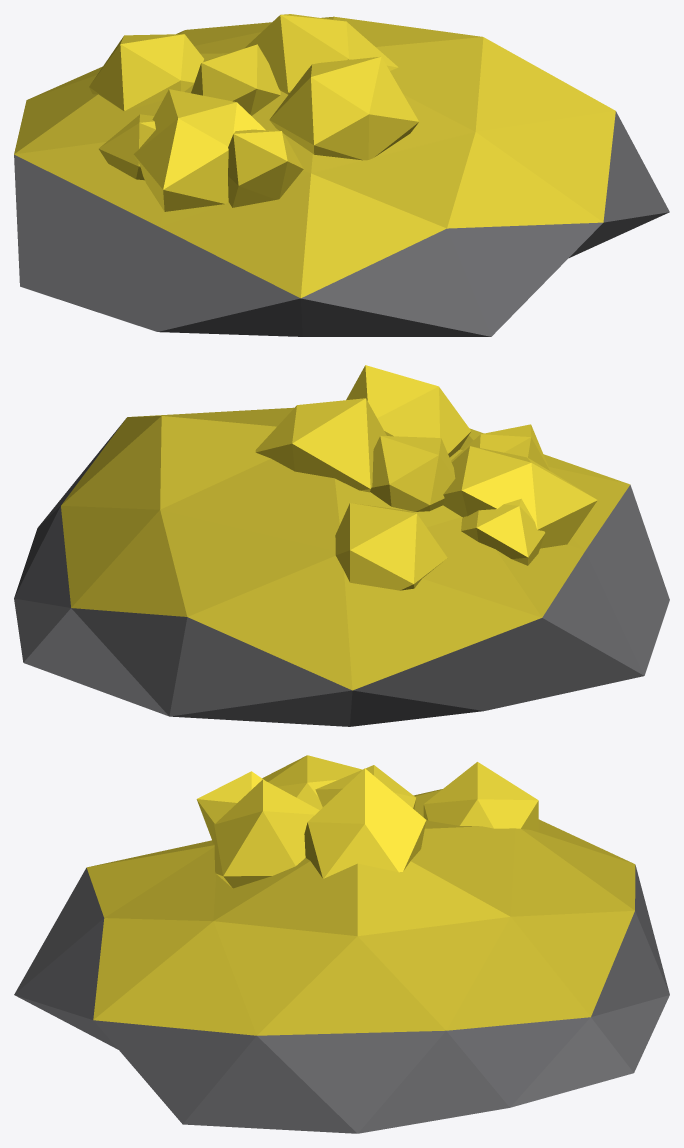
Rendered from sulfur_a.glb.
3 views of the same model, one above another, from view 1: azimuth 30°, elevation 25°; view 2: azimuth 150°, elevation 25°; view 3: azimuth 270°, elevation 25° (orthographic). The views are drawn at different scales.
Visible parts, largest first — view 1: sulfur_a; view 2: sulfur_a; view 3: sulfur_a.
Boxes of the visible parts, bbox=[...] form: sulfur_a: bbox=[14, 14, 669, 336]; sulfur_a: bbox=[14, 365, 669, 726]; sulfur_a: bbox=[14, 755, 669, 1133].
Size of the model in its own units: 1.06 by 0.3578 by 1.02.
